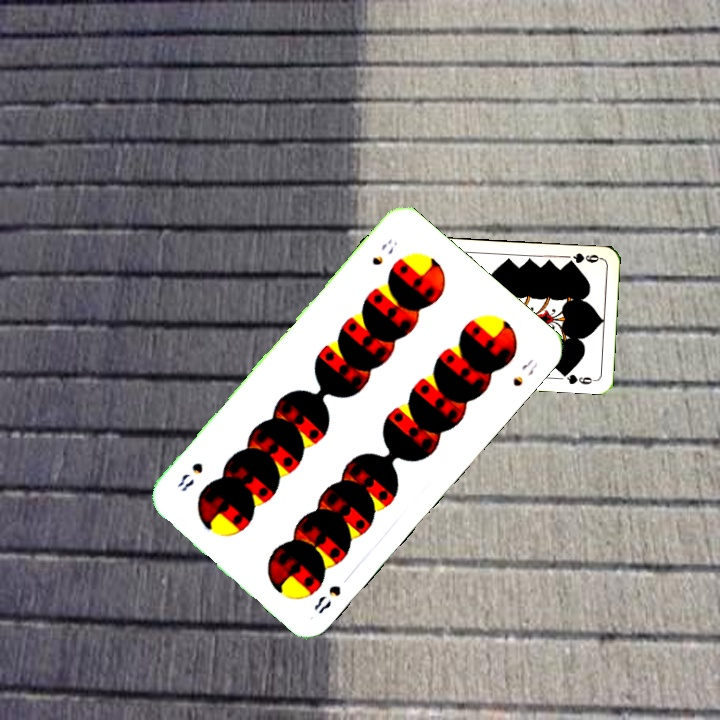G9: (563, 249, 604, 267)
S8: (309, 581, 344, 617), (367, 235, 400, 268)
